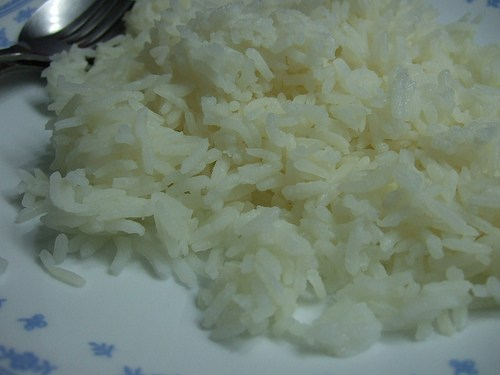plain rice: (147, 18, 448, 294)
